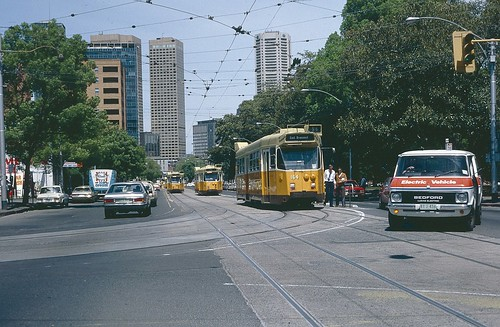building: (84, 36, 142, 143), (147, 36, 190, 157), (252, 33, 290, 94), (192, 120, 219, 153)
car: (390, 147, 483, 233), (99, 182, 161, 216)
street: (21, 206, 500, 327)
train: (232, 124, 331, 213), (190, 161, 224, 196)
vegetation: (217, 11, 500, 156), (1, 49, 148, 179)
